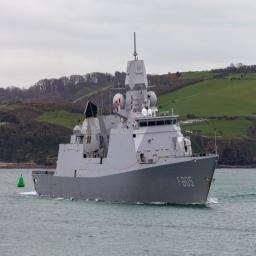Fragata: (32, 32, 220, 209)
